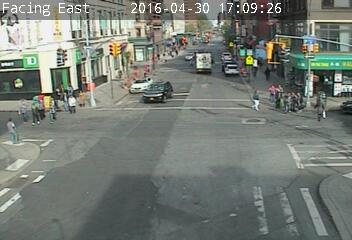neg: (257, 167, 288, 208), (141, 120, 171, 160), (172, 45, 201, 83), (10, 39, 37, 76), (163, 191, 186, 222), (95, 181, 118, 212), (150, 72, 173, 102), (210, 122, 233, 152), (24, 165, 46, 195), (43, 43, 63, 70), (97, 139, 116, 164), (292, 146, 308, 167), (108, 39, 119, 54), (249, 115, 259, 128), (85, 77, 95, 90)
pos: (58, 89, 80, 118), (1, 116, 21, 143), (311, 95, 330, 120), (246, 87, 262, 108), (46, 105, 58, 121), (261, 66, 273, 81), (268, 83, 279, 97)
